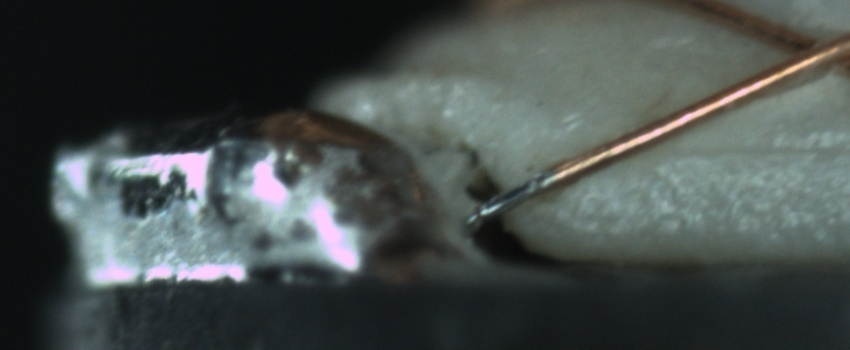CL: (754, 12, 847, 87)
DL: (638, 112, 850, 185)
TS: (473, 172, 549, 224)
